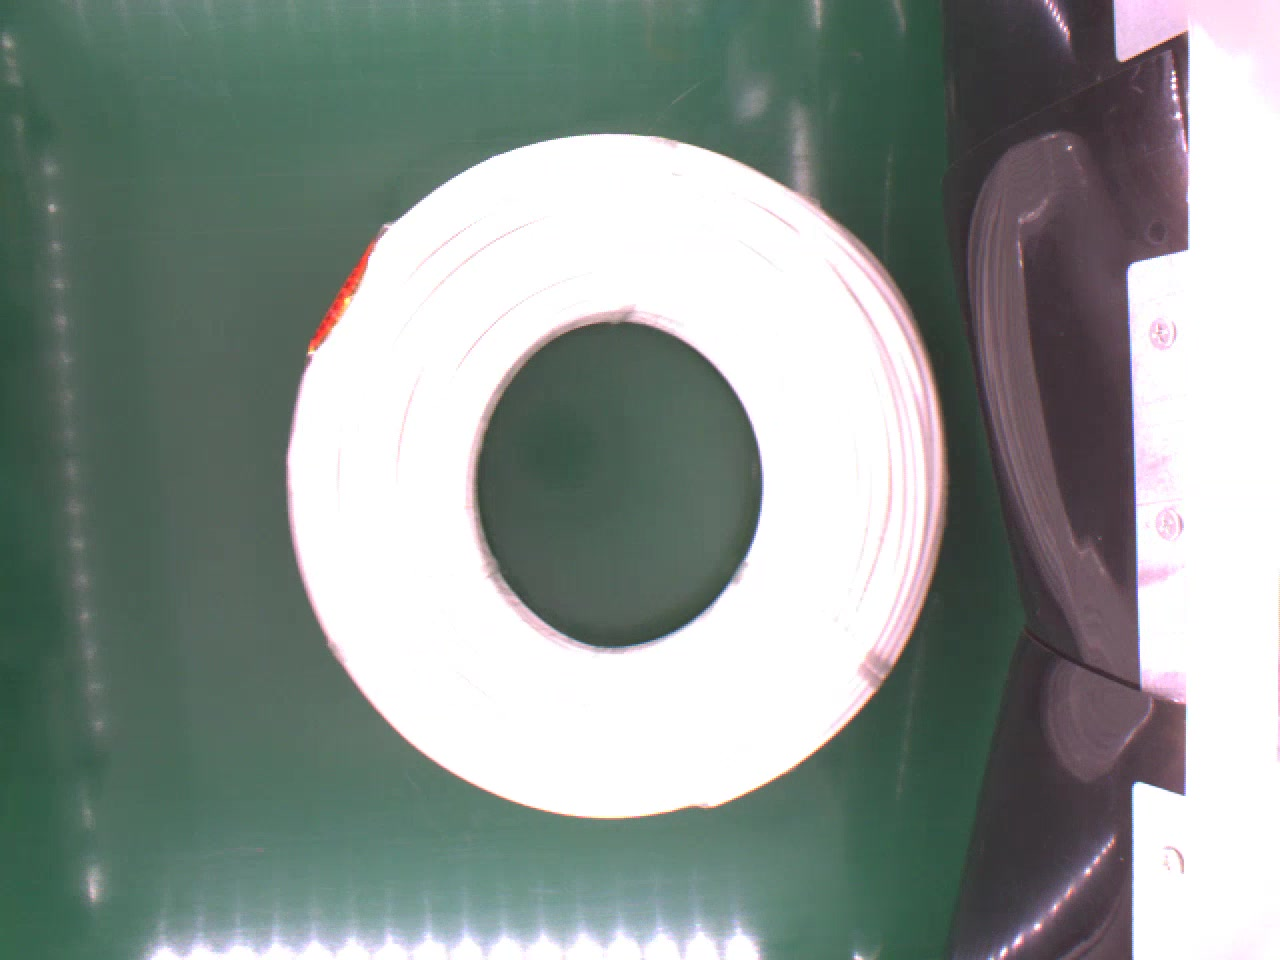white: (279, 129, 954, 817)
